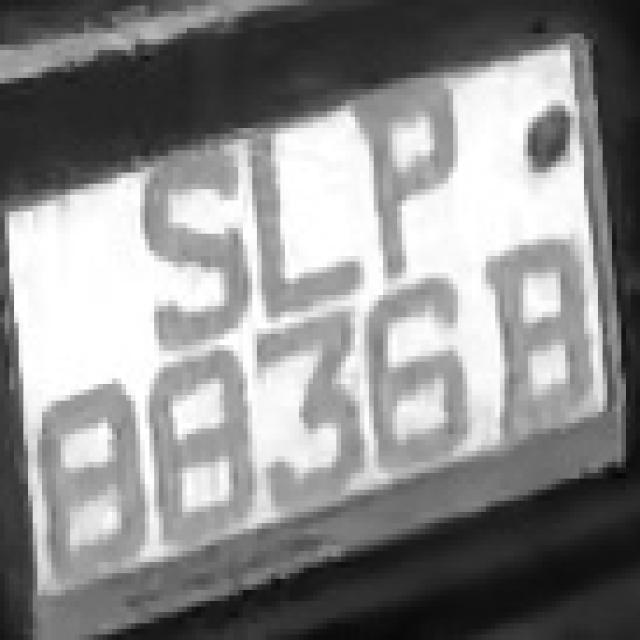3: (248, 306, 369, 507)
6: (369, 273, 472, 473)
8: (24, 384, 154, 584), (140, 345, 266, 540)
B: (481, 245, 607, 434)
L: (238, 112, 355, 328)
P: (337, 73, 468, 290)
S: (140, 139, 252, 356)
